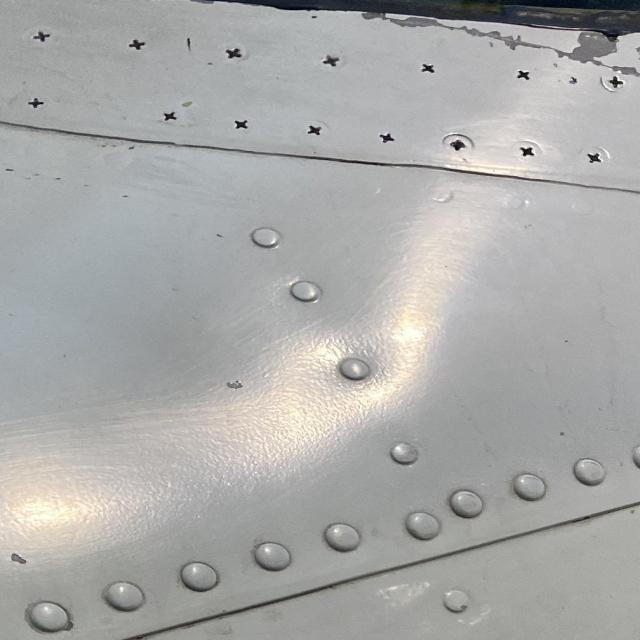Paint-off: (568, 27, 616, 59), (0, 540, 43, 570), (223, 377, 244, 388), (639, 44, 640, 55)
